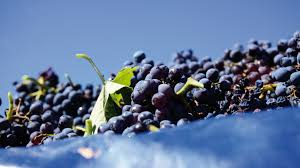Black grapes: (87, 58, 181, 136)
